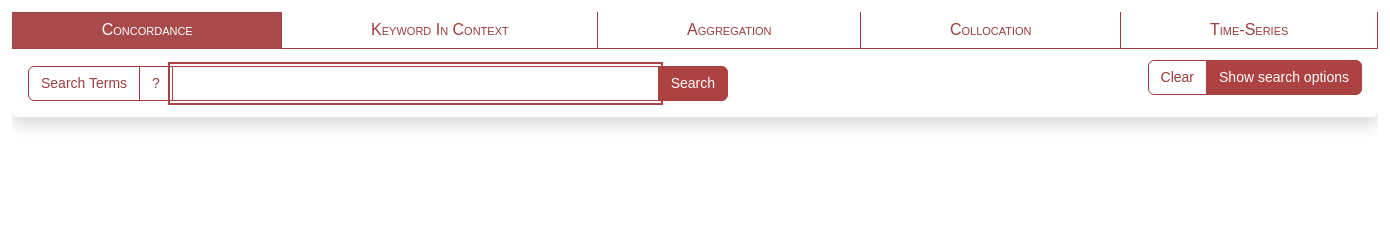
Test: SearchForm autocomplete › is used with the keys: arrows to move, Space to add, Enter to add and close
In the dropdown labelled "Search Terms": (415,84) x1=172 y1=66 x2=659 y2=101, type "lib"
Wait 200 ms
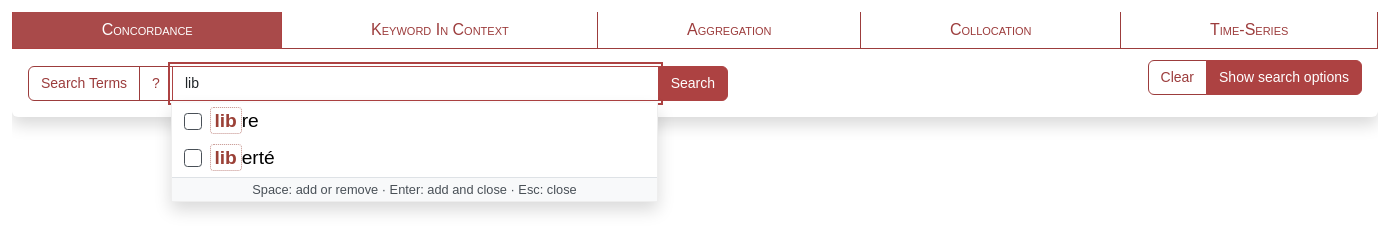
Press ArrowDown in the dropdown labelled "Search Terms", box x1=172 y1=66 x2=659 y2=101
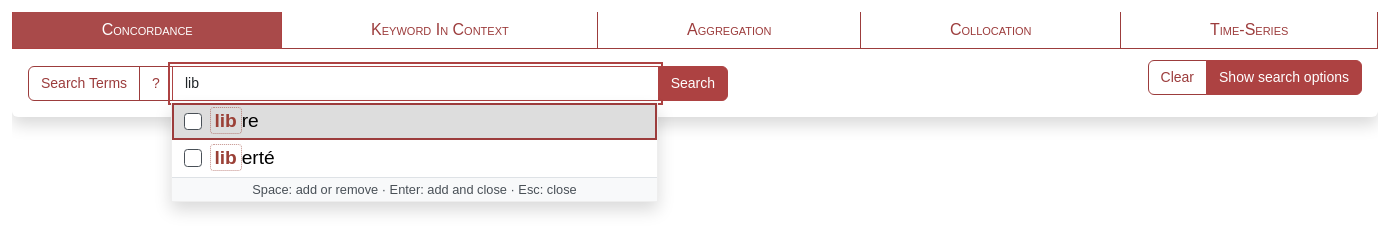
expect the option with id "autocomplete-q-option-0" has class "is-active": met, box x1=172 y1=103 x2=657 y2=140
Press Space in the dropdown labelled "Search Terms", box x1=172 y1=66 x2=659 y2=101
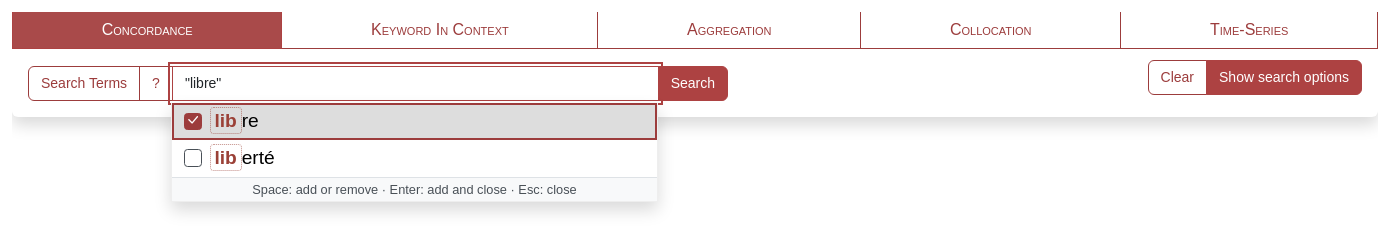
expect the dropdown labelled "Search Terms" holds "\"libre\"": met
Press ArrowDown in the dropdown labelled "Search Terms", box x1=172 y1=66 x2=659 y2=101
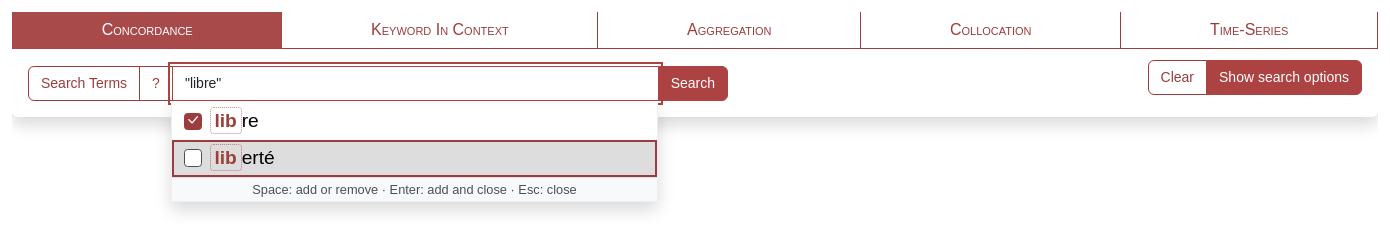
Press Enter in the dropdown labelled "Search Terms", box x1=172 y1=66 x2=659 y2=101
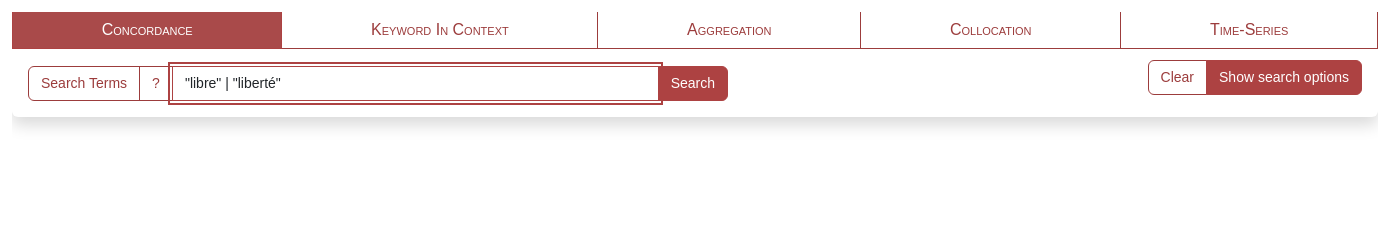
expect the dropdown labelled "Search Terms" holds "\"libre\" | \"liberté\"": met, box x1=172 y1=66 x2=659 y2=101
expect the dropdown labelled "Search Terms" is collapsed: met, box x1=172 y1=66 x2=659 y2=101
